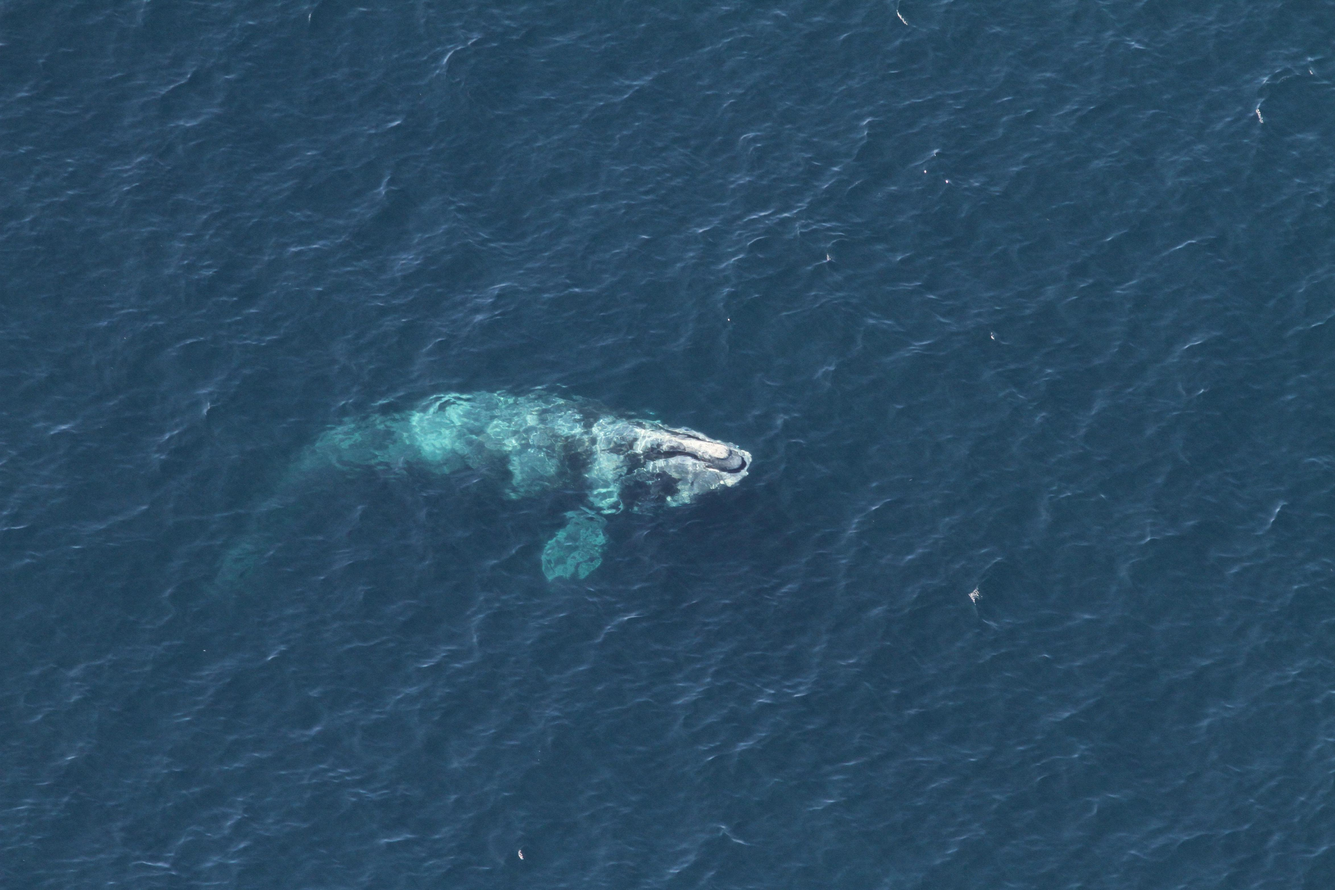whale: (191, 382, 754, 636)
